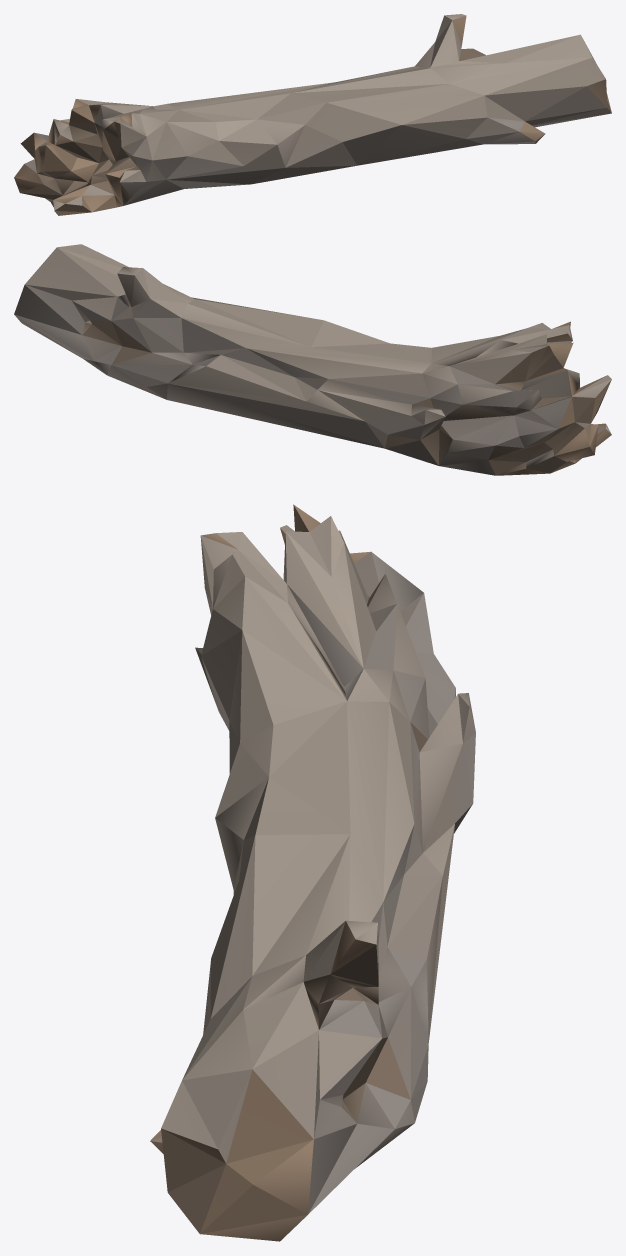
The model's file is driftwood-log.glb.
3 renders of one model, top to bottom at view 1: azimuth 30°, elevation 25°; view 2: azimuth 150°, elevation 25°; view 3: azimuth 270°, elevation 25°, orthographic. The views are drawn at different scales.
Parts seen in each view (by area): view 1: driftwood-log; view 2: driftwood-log; view 3: driftwood-log.
Part boxes in pixels (x1,y1,x2,y2): driftwood-log: (14, 14, 611, 215); driftwood-log: (14, 244, 611, 475); driftwood-log: (150, 504, 475, 1241).
Bounding box in the file's own units: 3.59 × 0.7458 × 0.9025.
